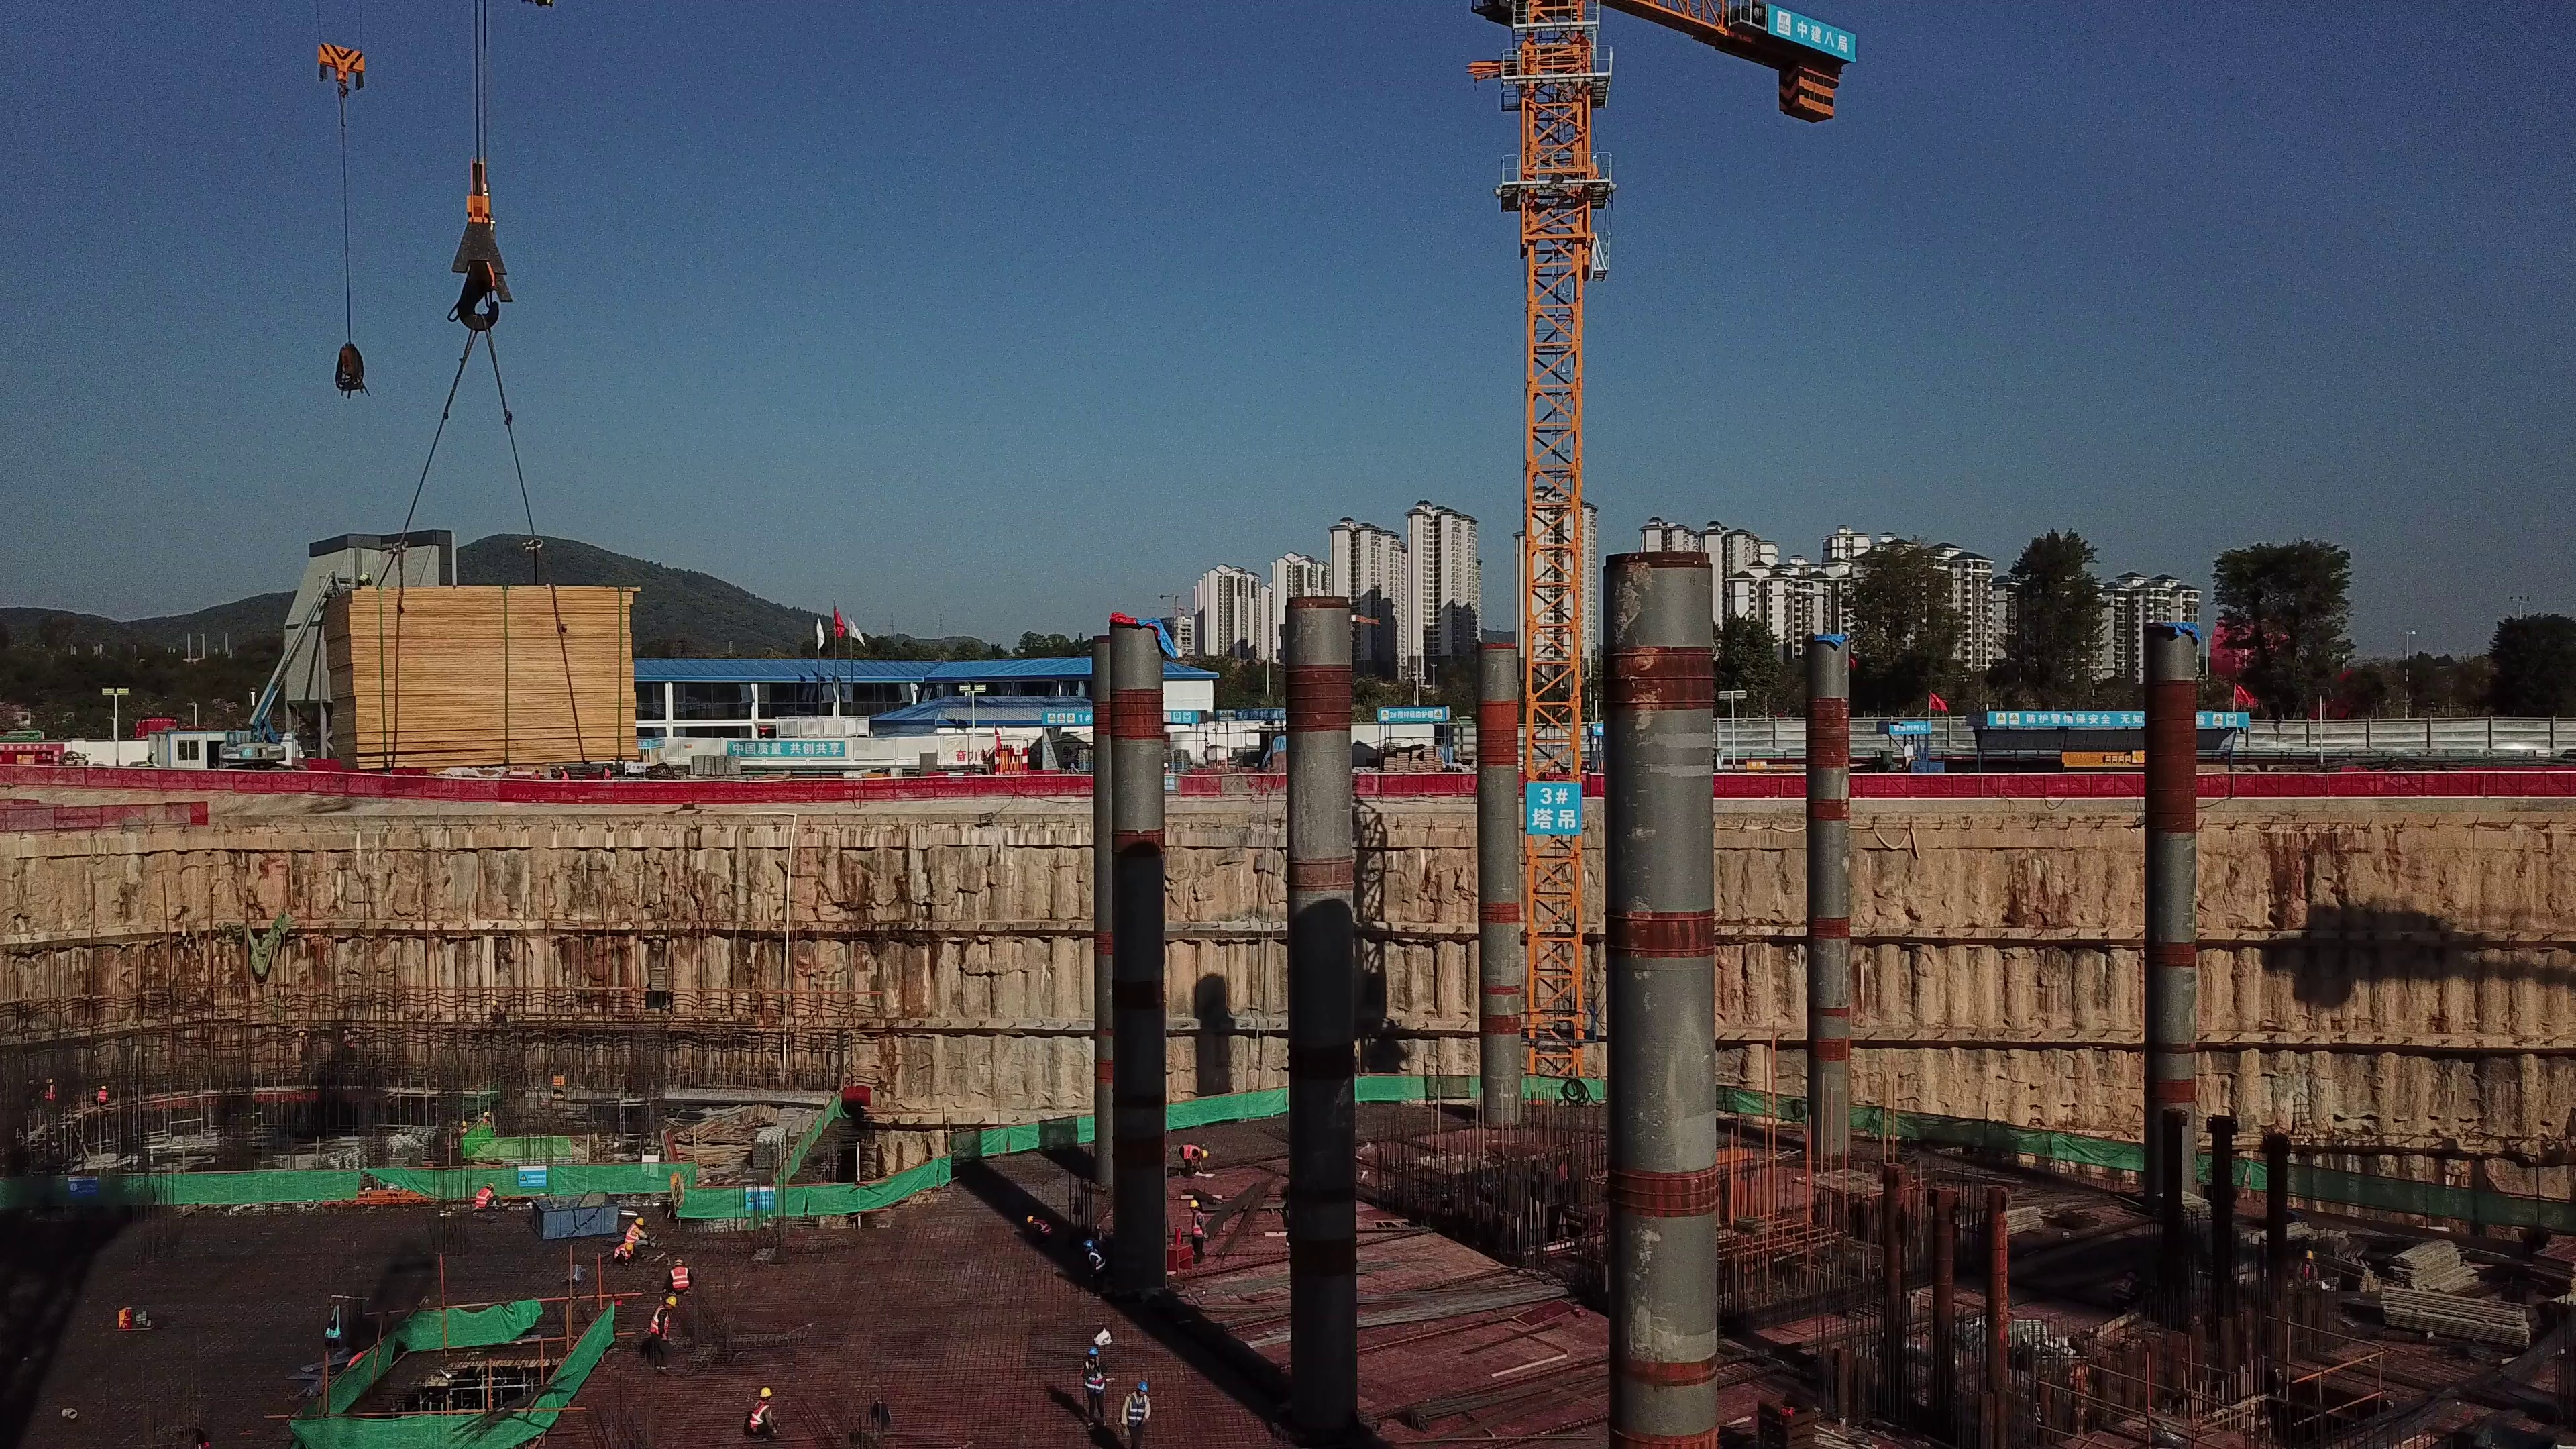helmet: (665, 1295, 678, 1307), (759, 1388, 773, 1398), (1136, 1382, 1150, 1391), (1085, 1346, 1099, 1355), (635, 1216, 647, 1225), (1084, 1240, 1096, 1250), (1202, 1148, 1211, 1161), (2305, 1250, 2314, 1263), (1026, 1212, 1035, 1223), (1188, 1197, 1199, 1207), (486, 1179, 494, 1189), (673, 1257, 683, 1266), (46, 1077, 55, 1084), (482, 1109, 492, 1116), (625, 1243, 635, 1250), (558, 764, 565, 771), (460, 1120, 467, 1126), (1163, 761, 1169, 768), (533, 766, 541, 772), (504, 767, 513, 773), (101, 1085, 109, 1089), (1069, 761, 1075, 767), (602, 763, 610, 767), (151, 749, 158, 754)
person: (1079, 1346, 1114, 1430), (1119, 1379, 1154, 1448), (649, 1295, 679, 1373), (747, 1387, 782, 1434), (1185, 1198, 1210, 1264), (1175, 1142, 1210, 1182), (1084, 1240, 1108, 1299), (1026, 1212, 1056, 1256), (473, 1182, 513, 1210), (664, 1258, 694, 1295), (2112, 1272, 2140, 1311), (610, 1240, 645, 1271), (624, 1216, 660, 1242), (2295, 1248, 2318, 1287), (39, 1076, 57, 1101), (94, 1084, 111, 1106), (145, 750, 159, 765), (557, 765, 571, 781), (1065, 761, 1079, 774), (455, 1119, 468, 1134), (477, 1110, 492, 1122), (602, 764, 610, 780), (531, 766, 542, 778), (1161, 761, 1171, 773), (500, 768, 512, 777)
vest: (651, 1305, 671, 1339), (1126, 1395, 1148, 1427), (1086, 1359, 1105, 1391), (1191, 1212, 1208, 1239), (752, 1401, 769, 1426), (1179, 1142, 1203, 1160), (672, 1267, 686, 1292), (1089, 1249, 1104, 1274), (2115, 1281, 2133, 1301), (476, 1189, 491, 1207), (1035, 1218, 1052, 1233), (46, 1085, 58, 1103), (625, 1224, 637, 1241), (614, 1242, 625, 1256), (97, 1091, 107, 1104), (605, 768, 613, 781), (145, 755, 154, 768), (561, 771, 570, 780), (531, 772, 540, 778)
